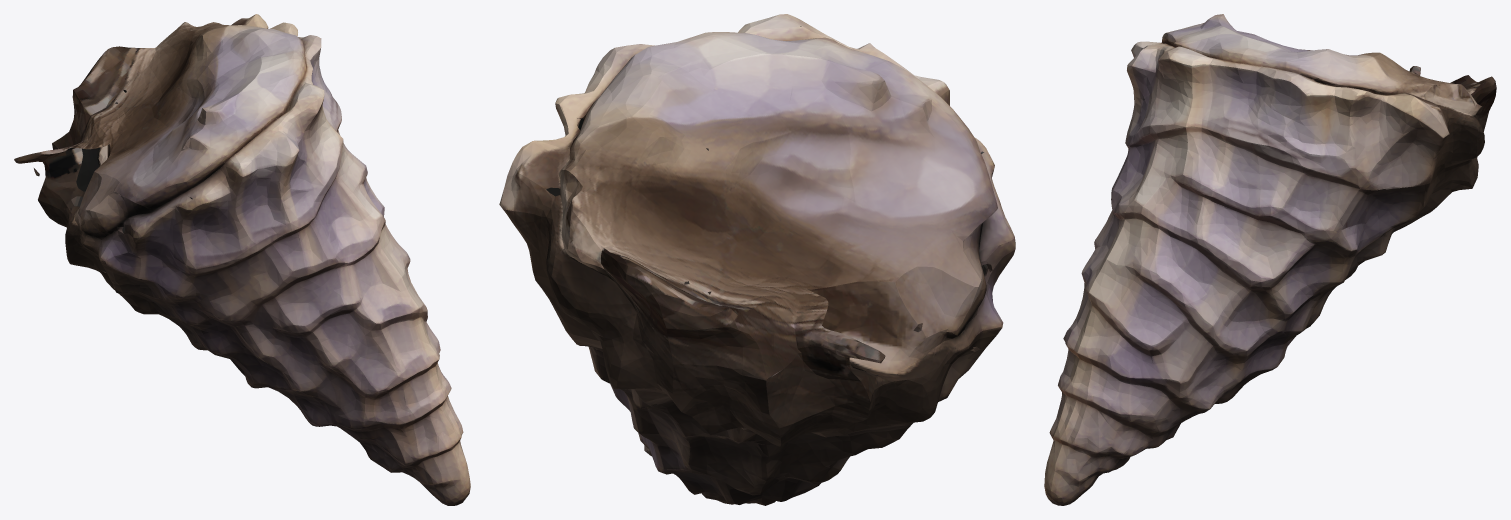
3 renders of one model, left to right at view 1: azimuth 30°, elevation 25°; view 2: azimuth 150°, elevation 25°; view 3: azimuth 270°, elevation 25°, orthographic. The views are drawn at different scales.
Visible parts, largest first — view 1: world; view 2: world; view 3: world.
Boxes of the visible parts, x1,y1,x2,y2 form: world: [14, 14, 470, 505]; world: [499, 14, 1015, 505]; world: [1044, 14, 1496, 505].
Size of the model in its own units: 0.0684 by 0.09 by 0.0879.
Materials: 1 (1 with a texture image).
